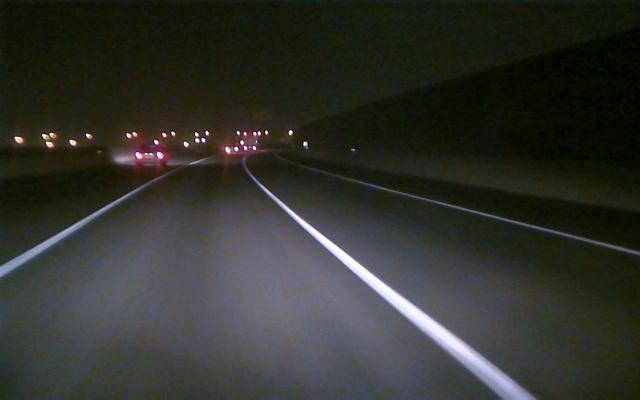lane: (255, 181, 537, 398), (350, 178, 640, 257), (1, 182, 149, 277)
